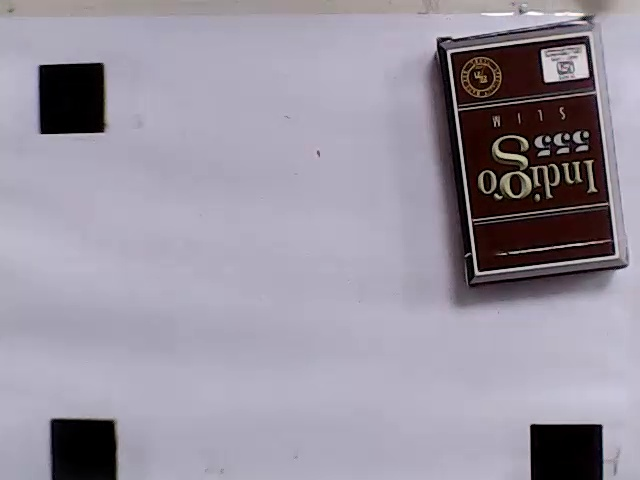BEX: (449, 33, 617, 272)
